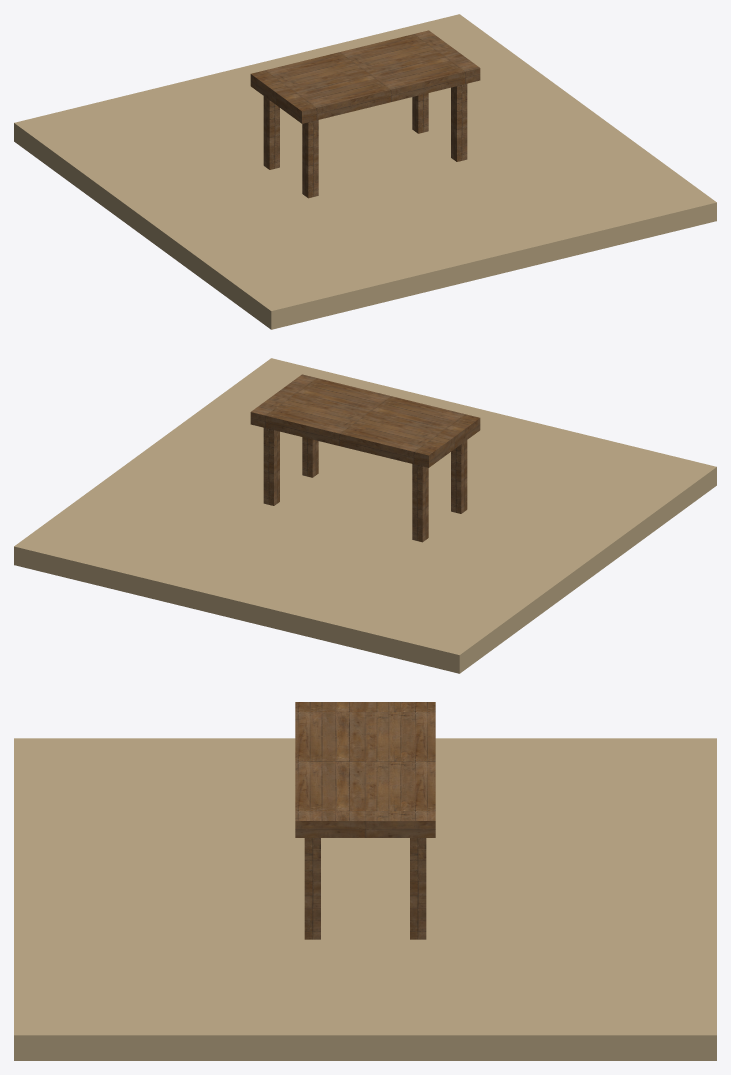
Rendered from mesa.glb.
3 views of the same model, one above another, from view 1: azimuth 30°, elevation 25°; view 2: azimuth 150°, elevation 25°; view 3: azimuth 270°, elevation 25° (orthographic). The views are drawn at different scales.
Visible parts, largest first — view 1: Base ilustrativa, Tampo, Pé.003, Pé.001, Pé, Pé.002; view 2: Base ilustrativa, Tampo, Pé.002, Pé, Pé.001, Pé.003; view 3: Base ilustrativa, Tampo, Pé.002, Pé.003.
Part boxes in pixels (x1,y1,x2,y2): Base ilustrativa: (14, 14, 716, 329); Tampo: (250, 30, 480, 123); Pé.003: (451, 84, 467, 161); Pé.001: (302, 120, 318, 198); Pé: (263, 96, 279, 169); Pé.002: (412, 93, 428, 133); Base ilustrativa: (14, 358, 716, 673); Tampo: (250, 374, 480, 467); Pé.002: (263, 428, 279, 505); Pé: (412, 464, 428, 542); Pé.001: (451, 440, 467, 513); Pé.003: (302, 437, 318, 477); Base ilustrativa: (14, 738, 716, 1060); Tampo: (295, 702, 435, 837); Pé.002: (410, 838, 426, 939); Pé.003: (304, 838, 320, 939).
Bounding box in the file's own units: 6 × 1.42 × 6.
Materials: 2 (1 with a texture image).
